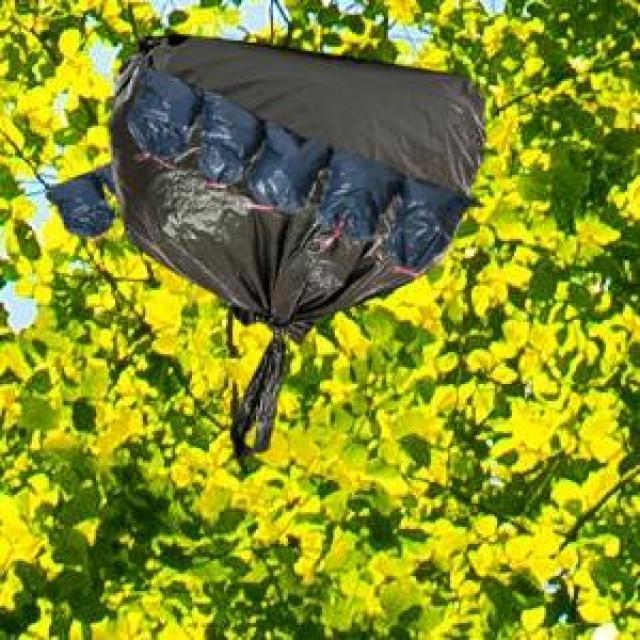Vinyl: (51, 38, 484, 451)
